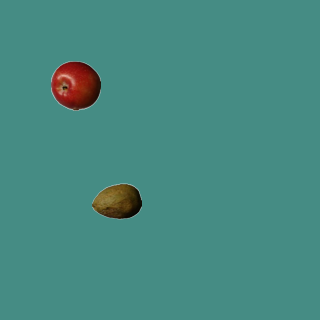Apple Braeburn: (50, 60, 100, 110)
Papaya: (91, 176, 141, 226)
